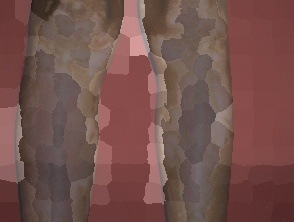vitiligo: (147, 0, 235, 222), (22, 0, 135, 98)
